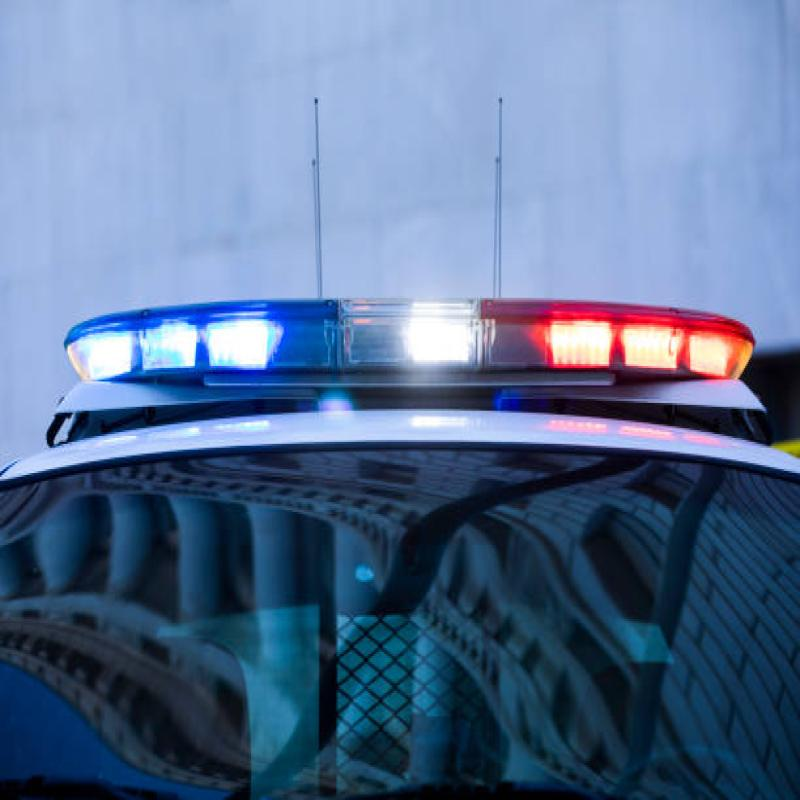AmbulanceSiren: (44, 246, 768, 433)
